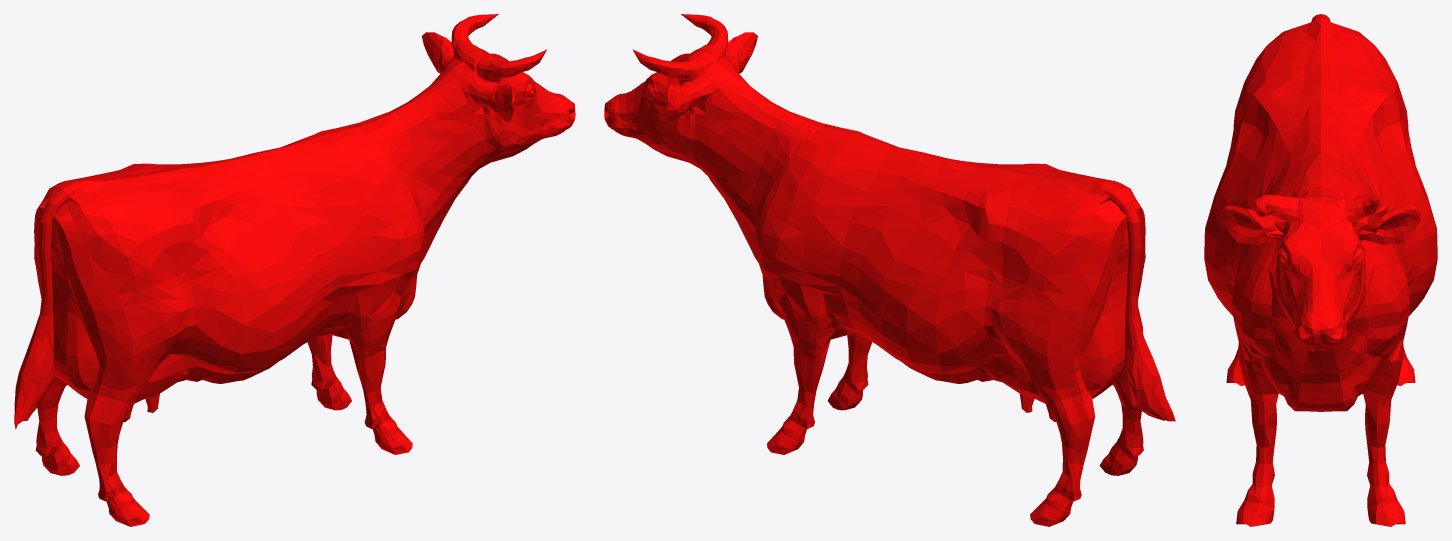
File: cow.obj
3 renders of one model, left to right at view 1: azimuth 30°, elevation 25°; view 2: azimuth 150°, elevation 25°; view 3: azimuth 270°, elevation 25°, orthographic. The views are drawn at different scales.
Bounding box in the file's own units: 10.44 × 6.4 × 3.4.
